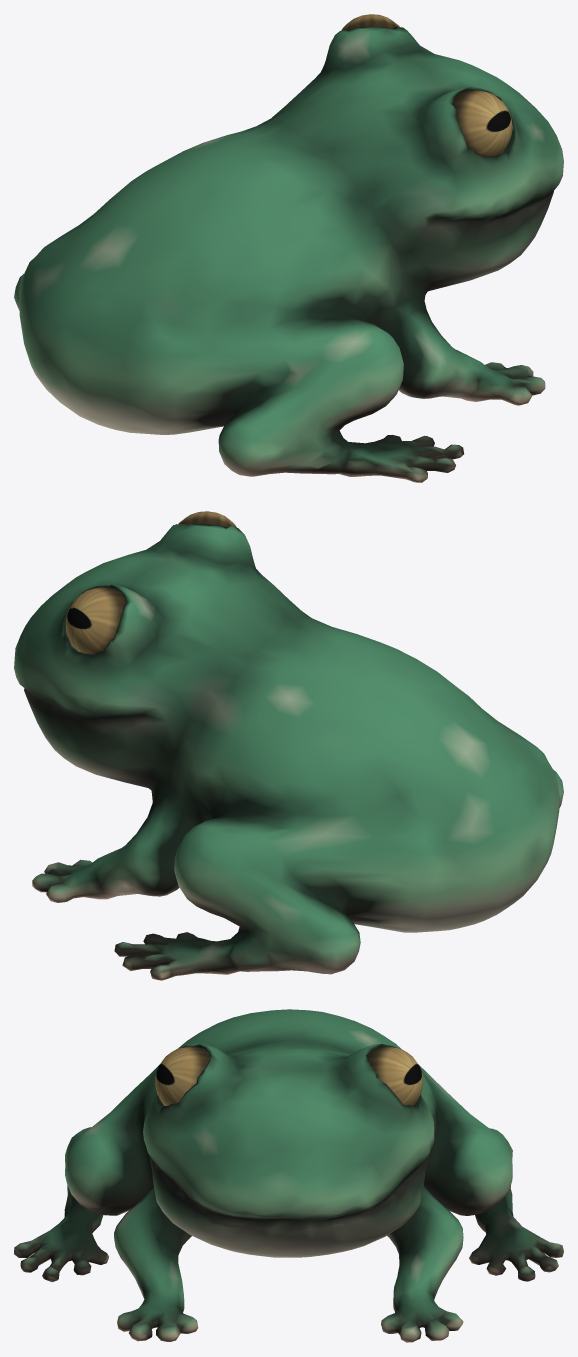
Rendered from rana.glb.
3 views of the same model, one above another, from view 1: azimuth 30°, elevation 25°; view 2: azimuth 150°, elevation 25°; view 3: azimuth 270°, elevation 25° (orthographic). The views are drawn at different scales.
Visible parts, largest first — view 1: Rana; view 2: Rana; view 3: Rana.
Part boxes in pixels (x1,y1,x2,y2): Rana: (14,14,563,482); Rana: (14,511,563,980); Rana: (14,1009,563,1342).
Size of the model in its own units: 1.78 by 1 by 1.78.
2 materials, 1 textured.
